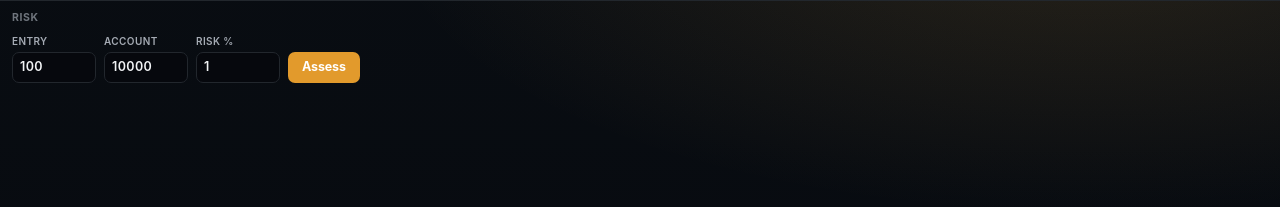
Test: RiskBox › assesses risk with the count geometry and shows stop, size and R:R
Click the button "Assess" at (324, 67), box [288,52,360,83]
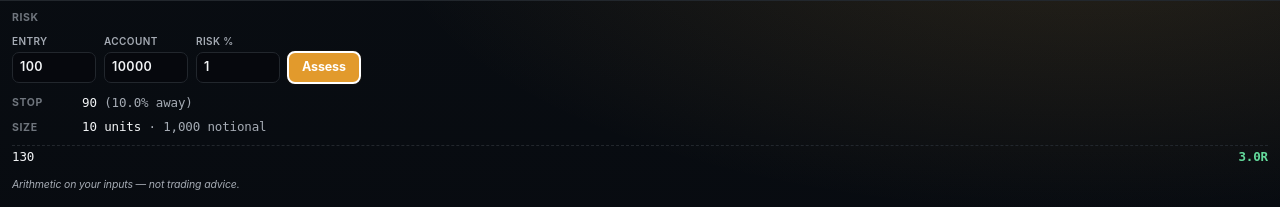
Now the text "10 units · 1,000 notional" is shown, box [82,119,266,134]
Now the text "3.0R" is shown, box [1238,148,1268,167]
